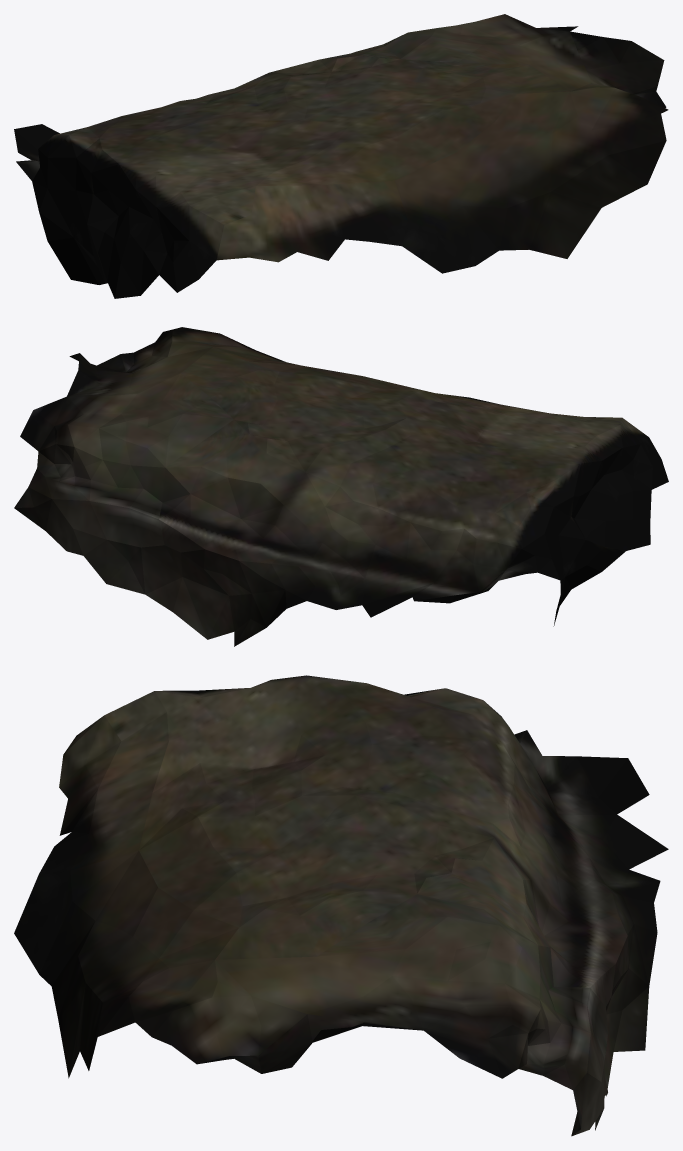
Rendered from battery.fbx.
3 renders of one model, top to bottom at view 1: azimuth 30°, elevation 25°; view 2: azimuth 150°, elevation 25°; view 3: azimuth 270°, elevation 25°, orthographic. The views are drawn at different scales.
Visible parts, largest first — view 1: battery; view 2: battery; view 3: battery.
Boxes of the visible parts, x1,y1,x2,y2 form: battery: [14, 14, 668, 298]; battery: [14, 327, 668, 646]; battery: [14, 675, 668, 1136].
Size of the model in its own units: 31.92 by 9.23 by 22.94.
